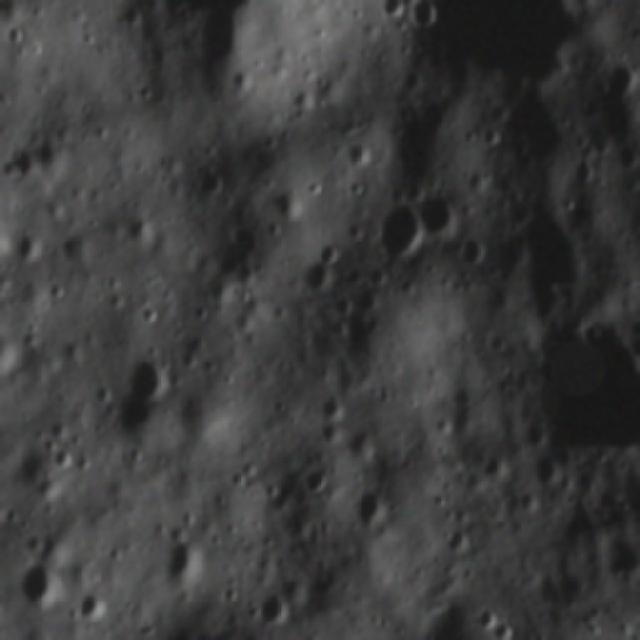crater: (529, 314, 640, 460), (370, 194, 424, 266), (409, 603, 506, 640), (8, 561, 62, 622), (126, 345, 176, 400), (161, 532, 208, 590), (416, 180, 462, 238), (352, 478, 393, 537), (256, 582, 302, 630), (594, 60, 640, 108), (601, 534, 640, 587), (69, 587, 114, 630), (289, 262, 333, 300), (296, 455, 332, 496), (0, 327, 25, 384), (457, 232, 492, 270), (406, 0, 445, 34), (310, 416, 342, 447), (314, 387, 343, 421), (317, 238, 348, 268), (367, 0, 404, 25), (233, 627, 270, 640)
